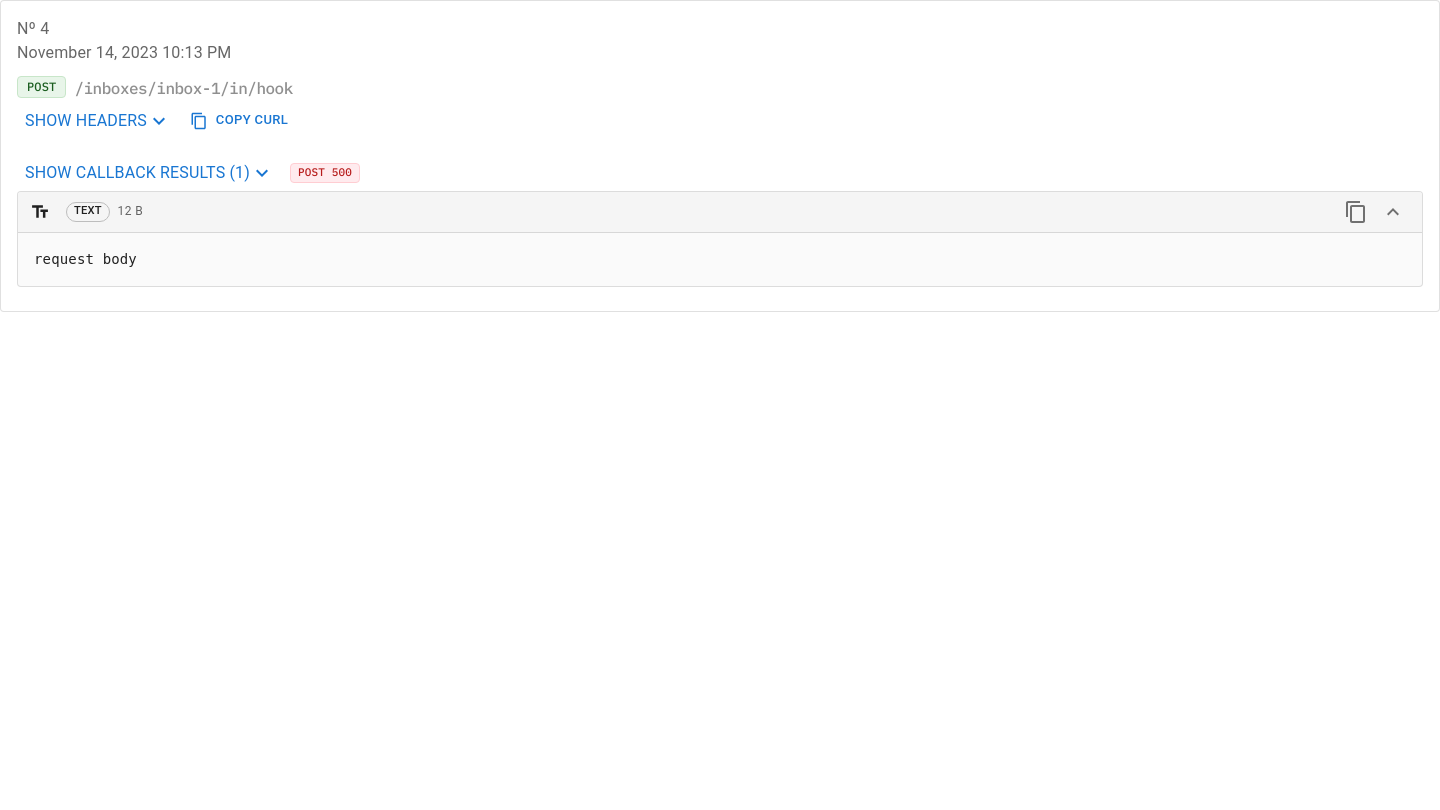
Test: reports a retry that got no response at all
The image size is (1440, 810).
Click the button "Show callback results (1)".
click(149, 173)  # box top-left (17, 155), bottom-right (282, 191)
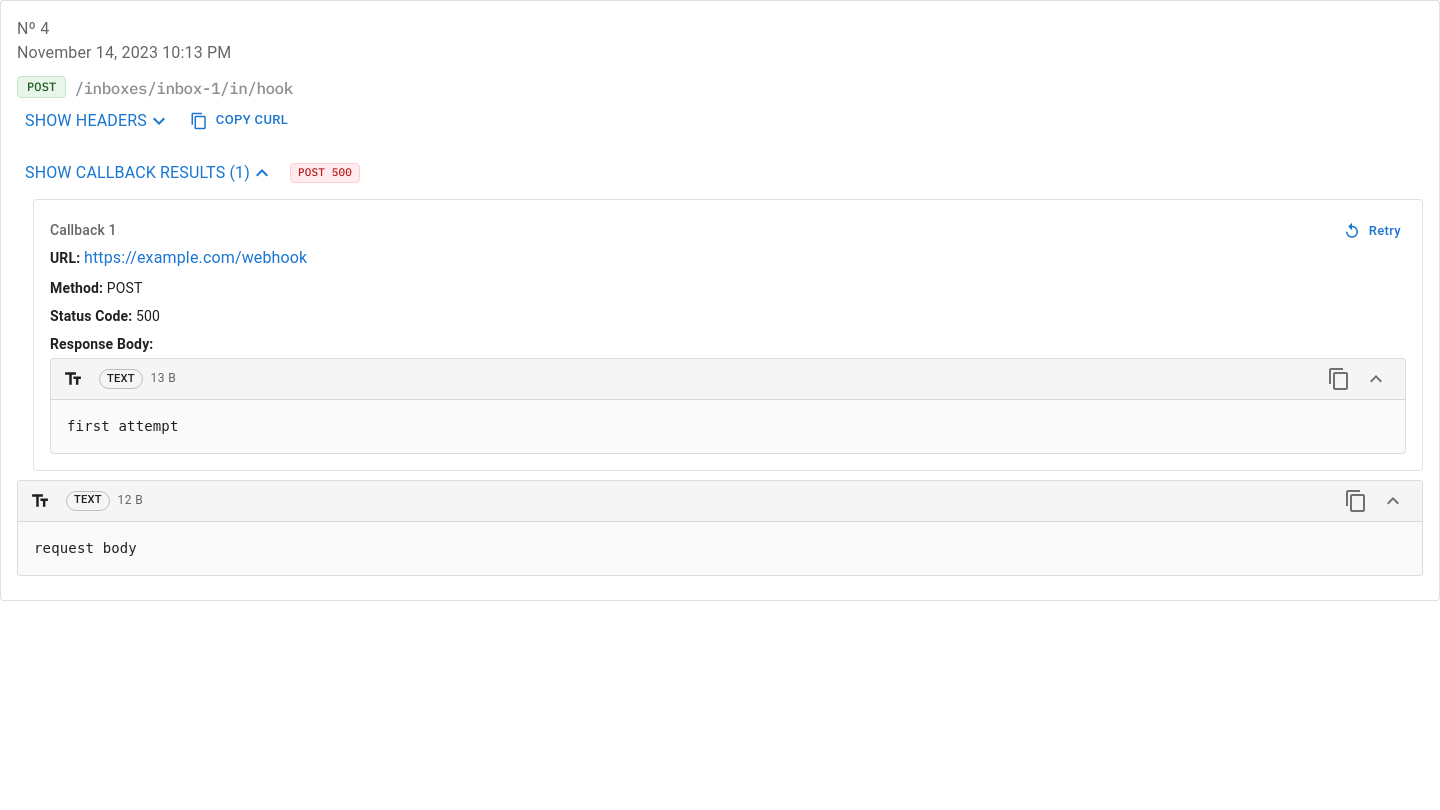
Click the button "Retry".
click(1373, 231)  # box top-left (1340, 216), bottom-right (1406, 246)
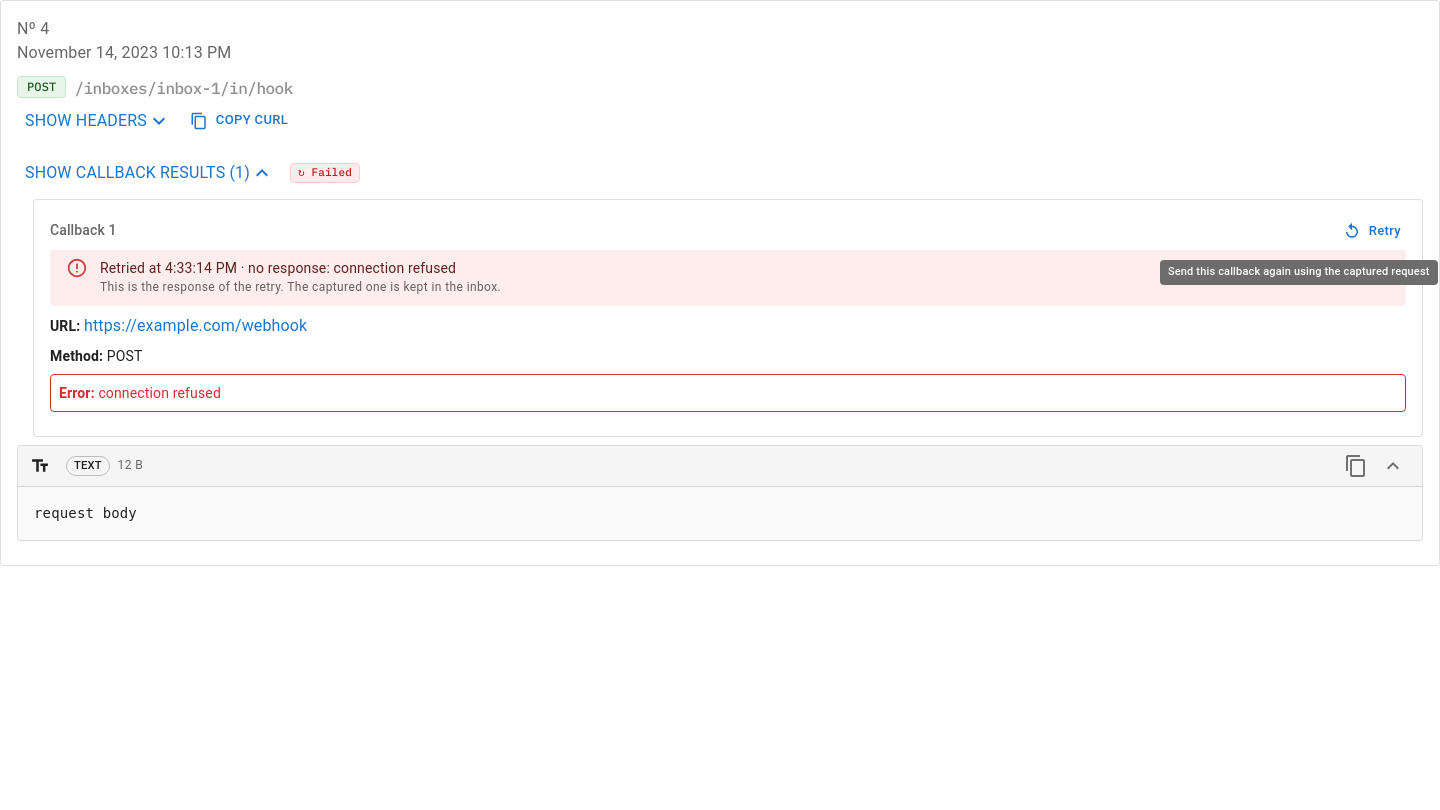
Result: the text "no response: connection refused" is shown at top-left (100, 260), bottom-right (456, 276)
